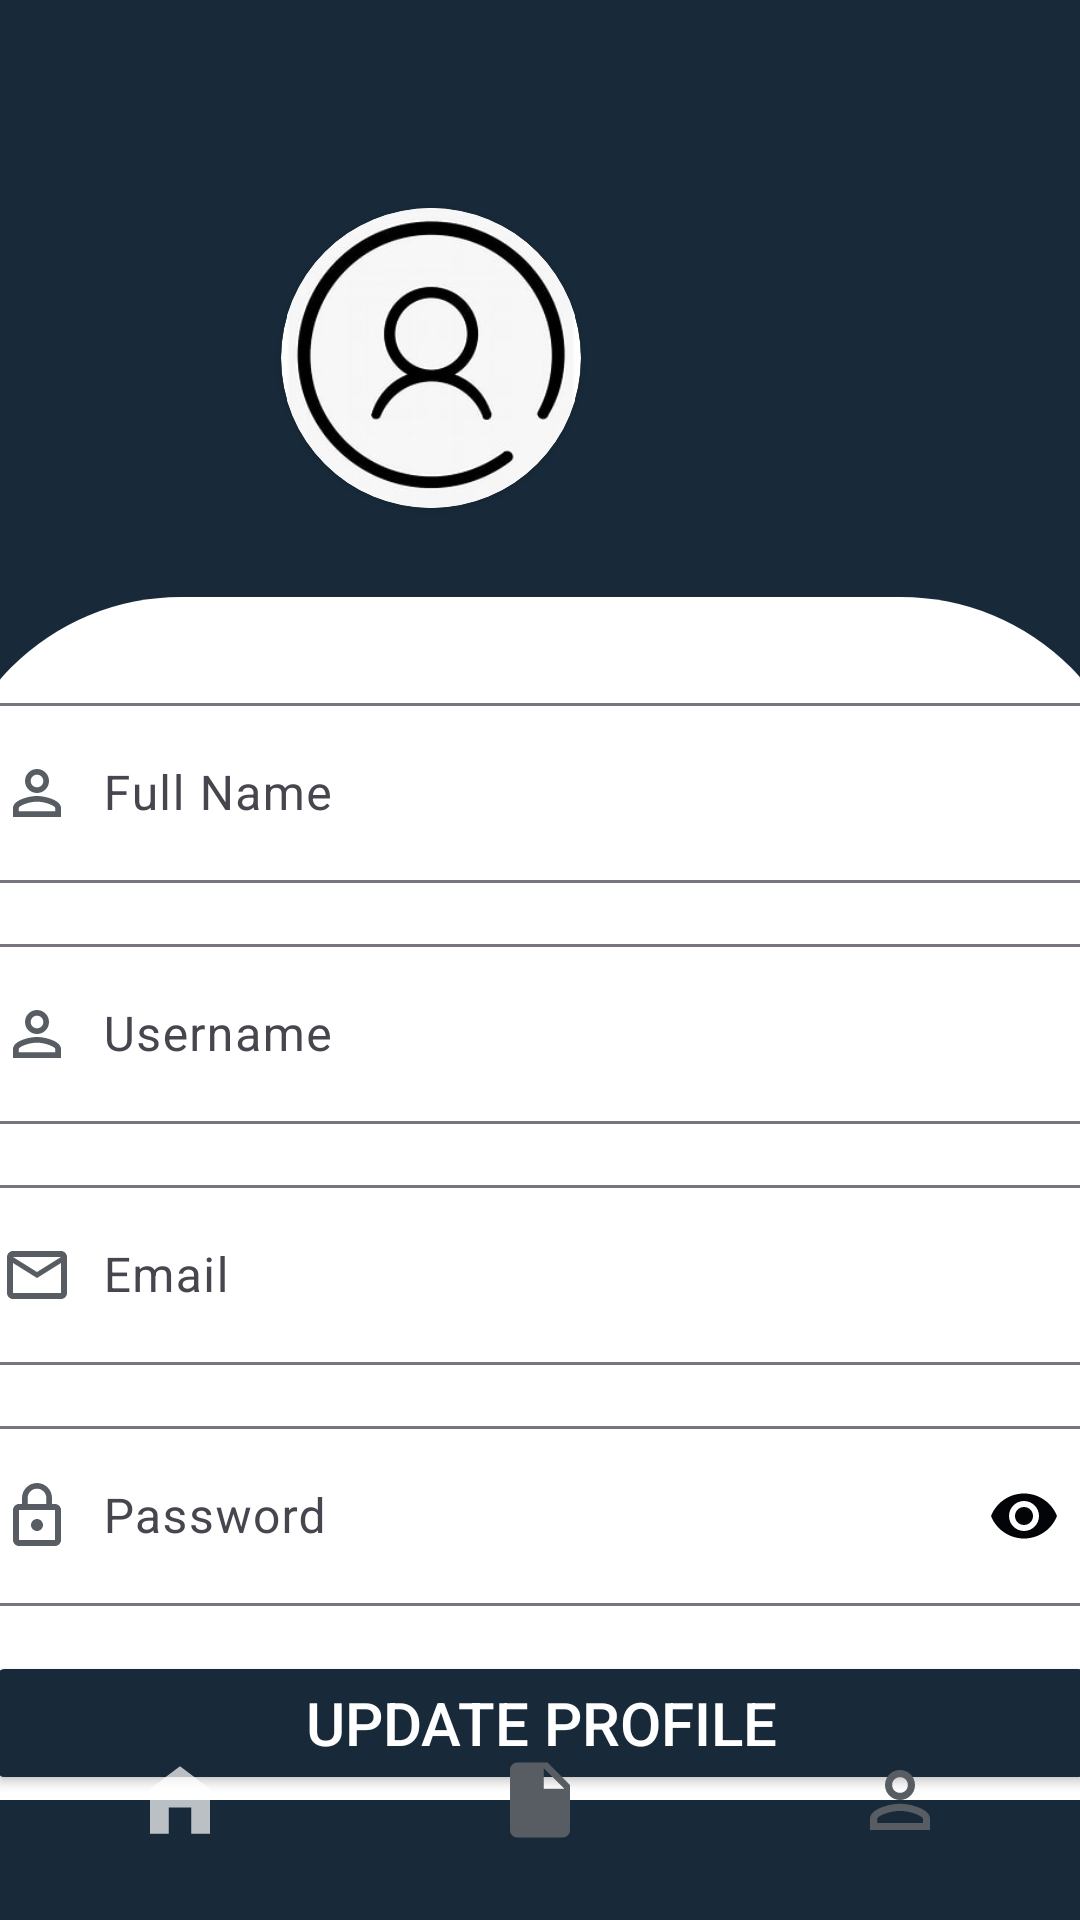

Icons on this 1080×1920 Android screen, each with the point to tap as point (x, y):
profile picture: point (431, 358)
